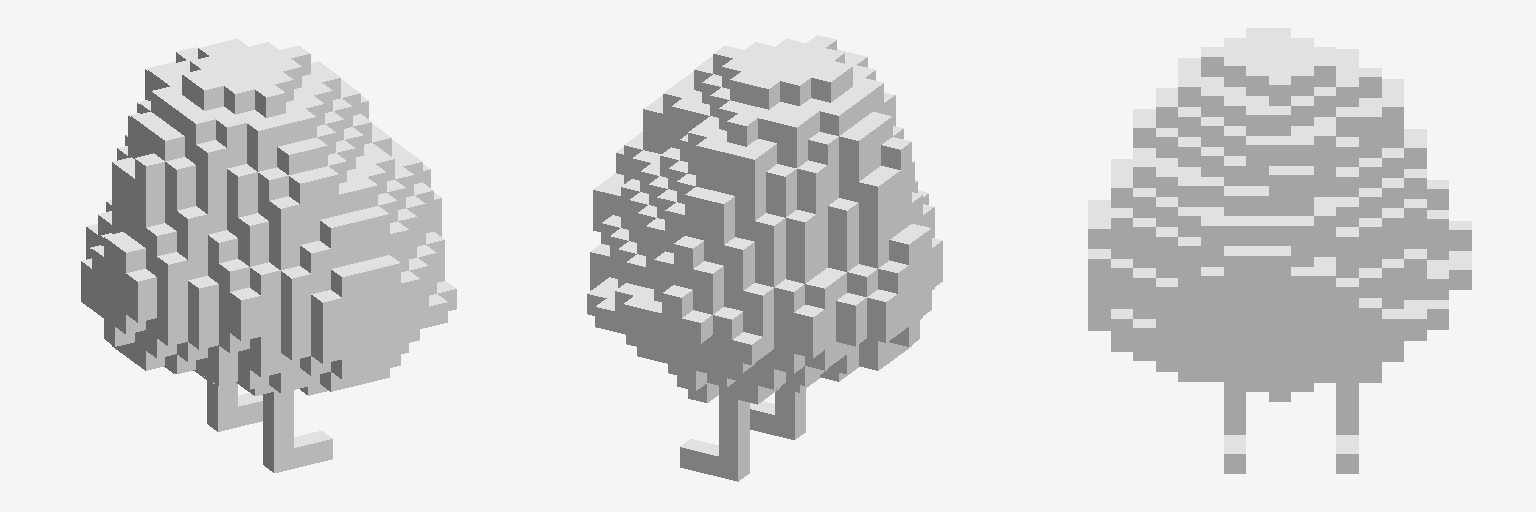
File: stone2.obj
3 views of the same model, side by side, from view 1: azimuth 30°, elevation 25°; view 2: azimuth 150°, elevation 25°; view 3: azimuth 270°, elevation 25° (orthographic).
Visible parts, largest first — view 1: object 1; view 2: object 1; view 3: object 1.
Boxes of the visible parts, <box> form: object 1: <box>81,39,456,472</box>; object 1: <box>587,35,942,481</box>; object 1: <box>1088,28,1471,473</box>.
Bounding box in the file's own units: 1.5 × 1.9 × 1.7.